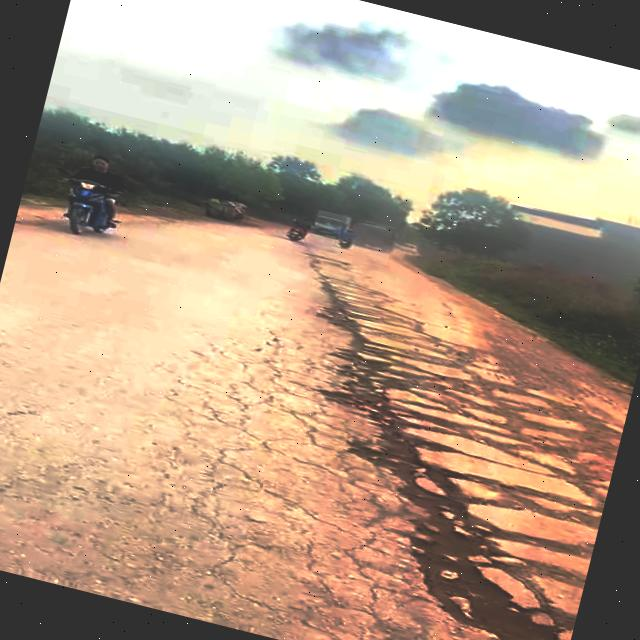pothole: (367, 493, 595, 640), (313, 376, 539, 524), (305, 305, 483, 418)
